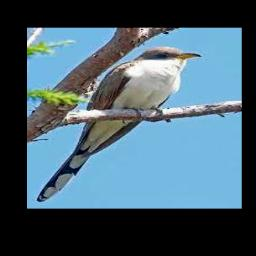Cuckoo: (37, 46, 203, 202)
